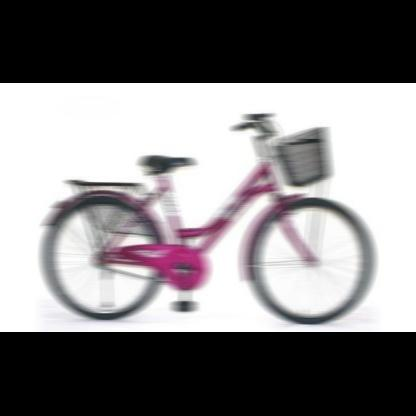Bicycle: (31, 97, 400, 329)
